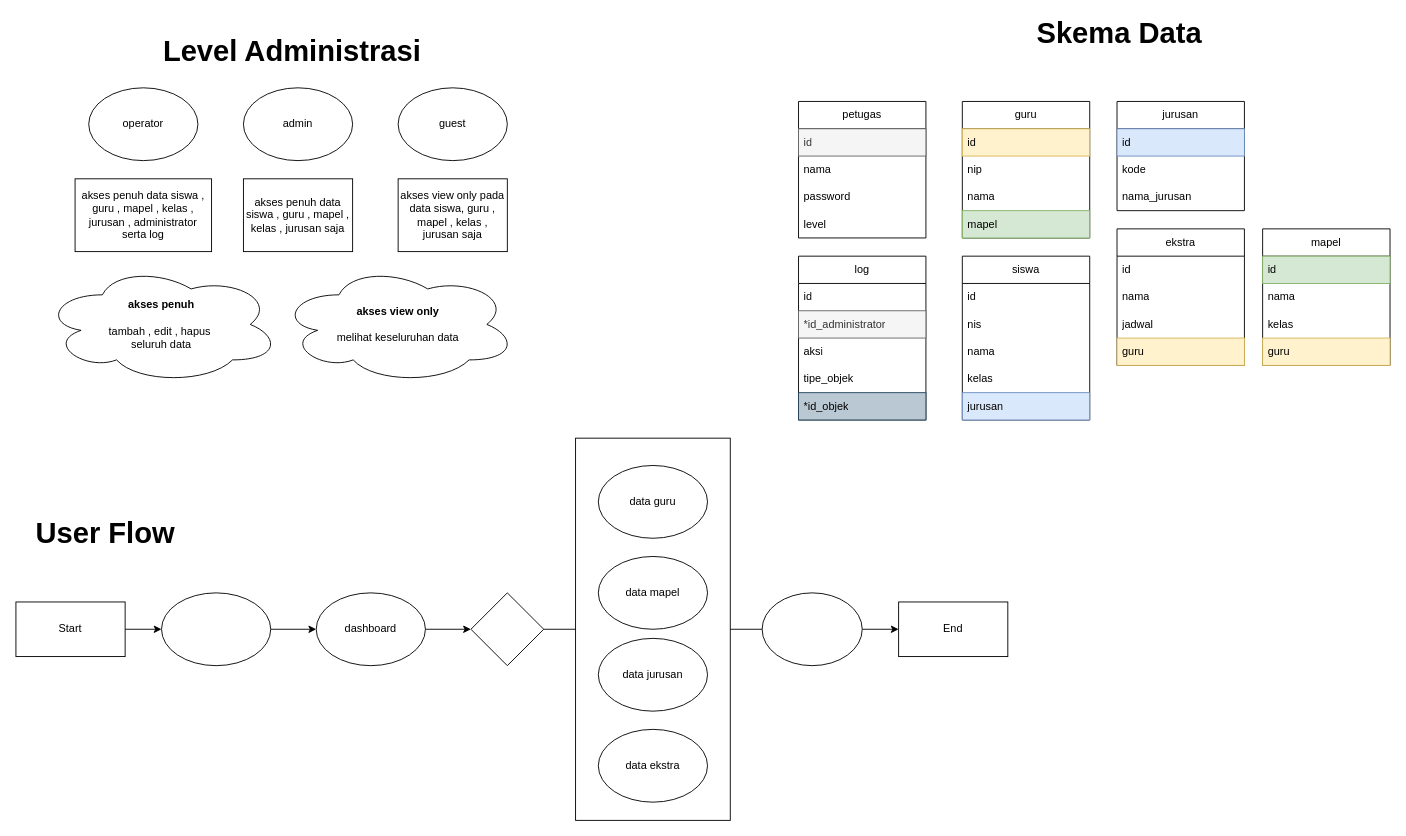
This 1406x836 diagram has some shape labels left out. The centre of each missing label's shape, as x and y in pixels:
interaksi : tambah, edit , hapus, lihat saja: (x=811, y=629)
Login: (x=216, y=629)
Navigasi: (x=507, y=629)
